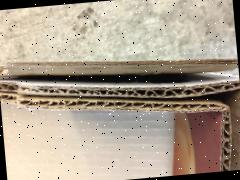cardboard: (0, 20, 240, 180)
